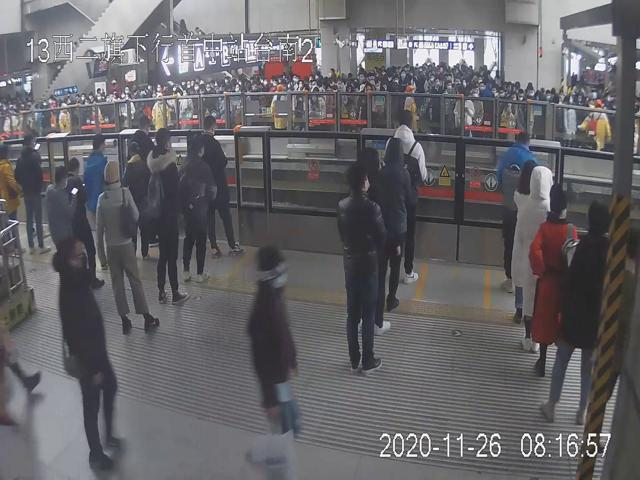person: (51, 237, 128, 475), (96, 160, 162, 334), (337, 160, 385, 376), (533, 184, 578, 377), (148, 128, 190, 305), (497, 132, 538, 292), (392, 106, 428, 284), (180, 139, 219, 283), (378, 139, 410, 310), (14, 134, 50, 254)
